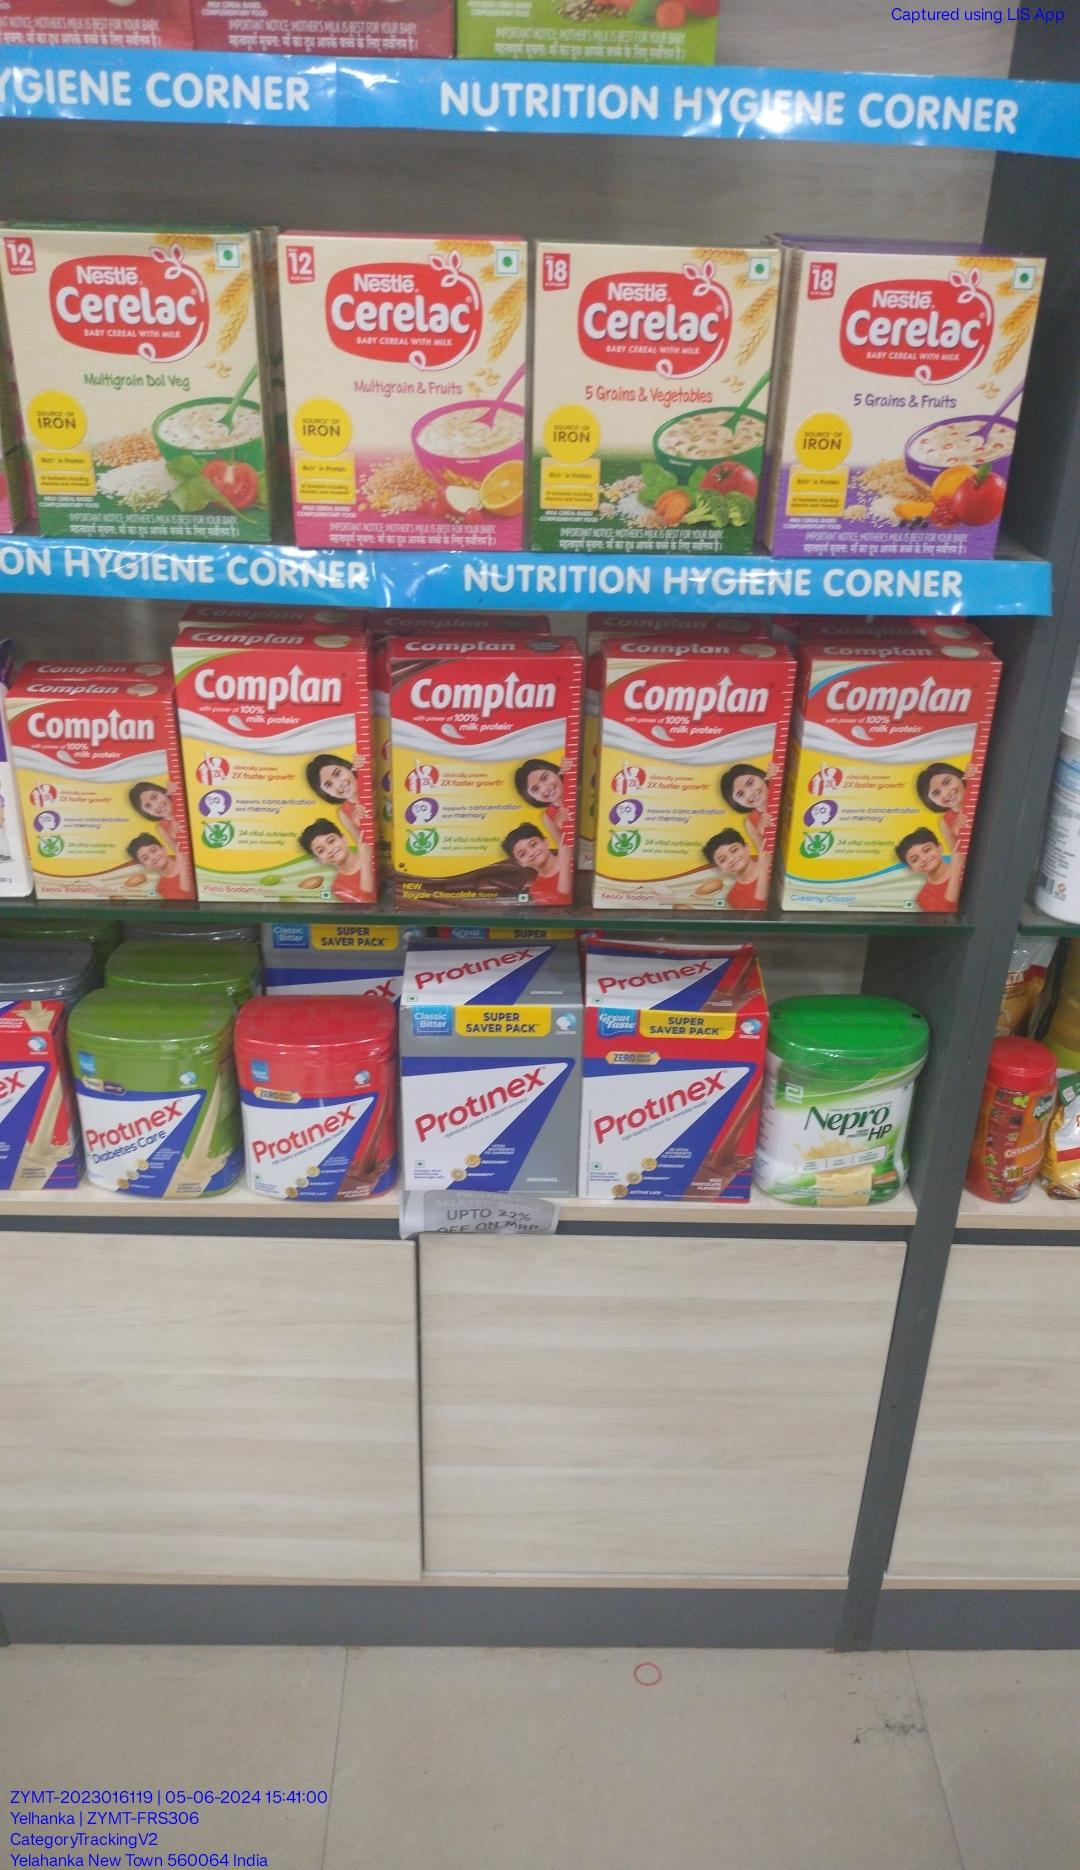COMPLAN_CHOCOLATE_500_GMS_PACK: (387, 657, 582, 900)
COMPLAN_CREAMY_CLASSIC_500_G_PACK: (792, 659, 989, 920)
COMPLAN_KESAR_BADAM_200_GMS_PACK: (13, 695, 181, 906)
COMPLAN_KESAR_BADAM_500_GMS_PACK: (607, 658, 787, 911)
COMPLAN_PISTA_BADAM_500_GMS_PACK: (186, 645, 377, 911)
PROTINEX_CHOCOLATE_400_G_JAR: (248, 993, 401, 1207)
